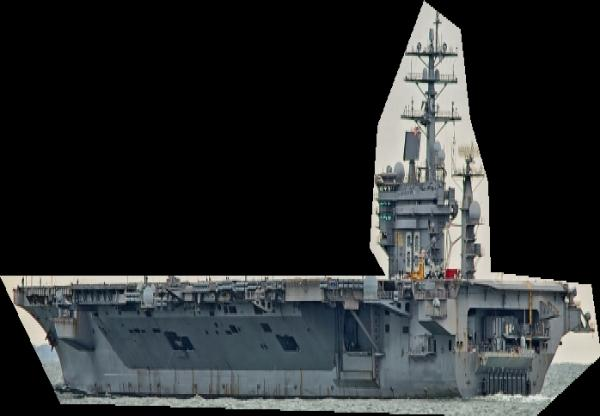Aircraft Carrier: (0, 1, 600, 416)
